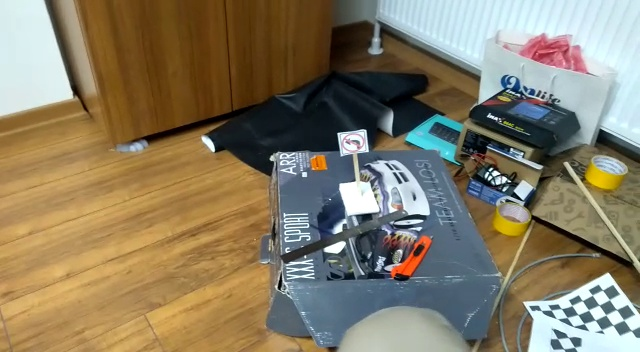sola_donulmez: (341, 131, 365, 153)
